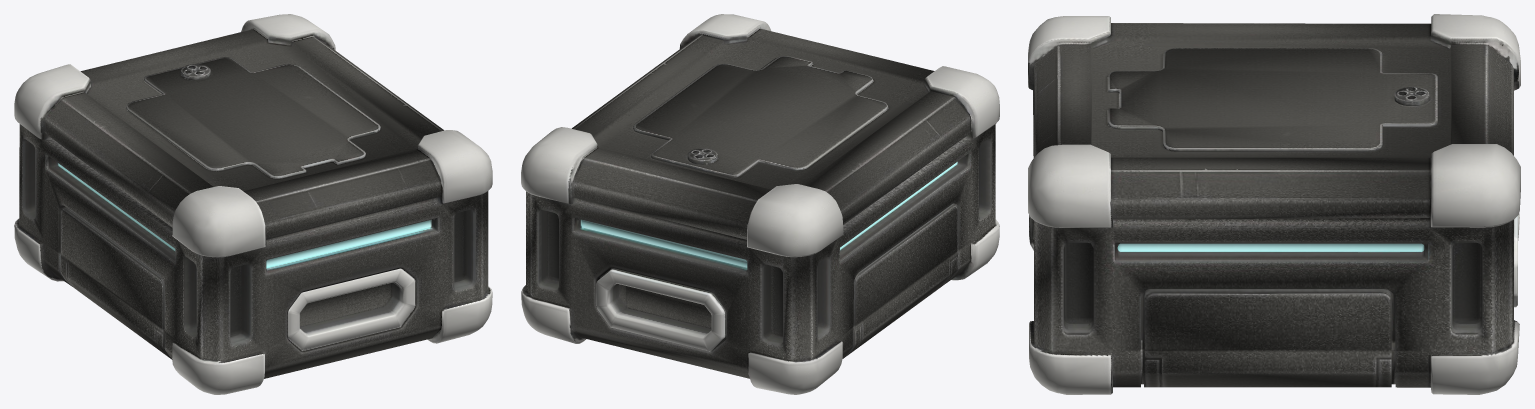
File: tripo_convert_28813fa5-67e6-413a-8d7b-ae33d82a0f90.fbx
3 renders of one model, left to right at view 1: azimuth 30°, elevation 25°; view 2: azimuth 150°, elevation 25°; view 3: azimuth 270°, elevation 25°, orthographic. The views are drawn at different scales.
Parts seen in each view (by area): view 1: tripo_node_28813fa5; view 2: tripo_node_28813fa5; view 3: tripo_node_28813fa5.
Part boxes in pixels (x1,y1,x2,y2): tripo_node_28813fa5: (14, 14, 492, 394); tripo_node_28813fa5: (521, 14, 999, 394); tripo_node_28813fa5: (1028, 14, 1520, 394).
Size of the model in its own units: 0.8418 by 0.5137 by 0.998.
1 material, 1 textured.
